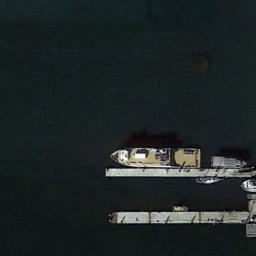boat: (108, 146, 201, 169), (210, 154, 247, 168), (237, 179, 256, 193), (196, 176, 222, 184), (170, 205, 190, 212)
